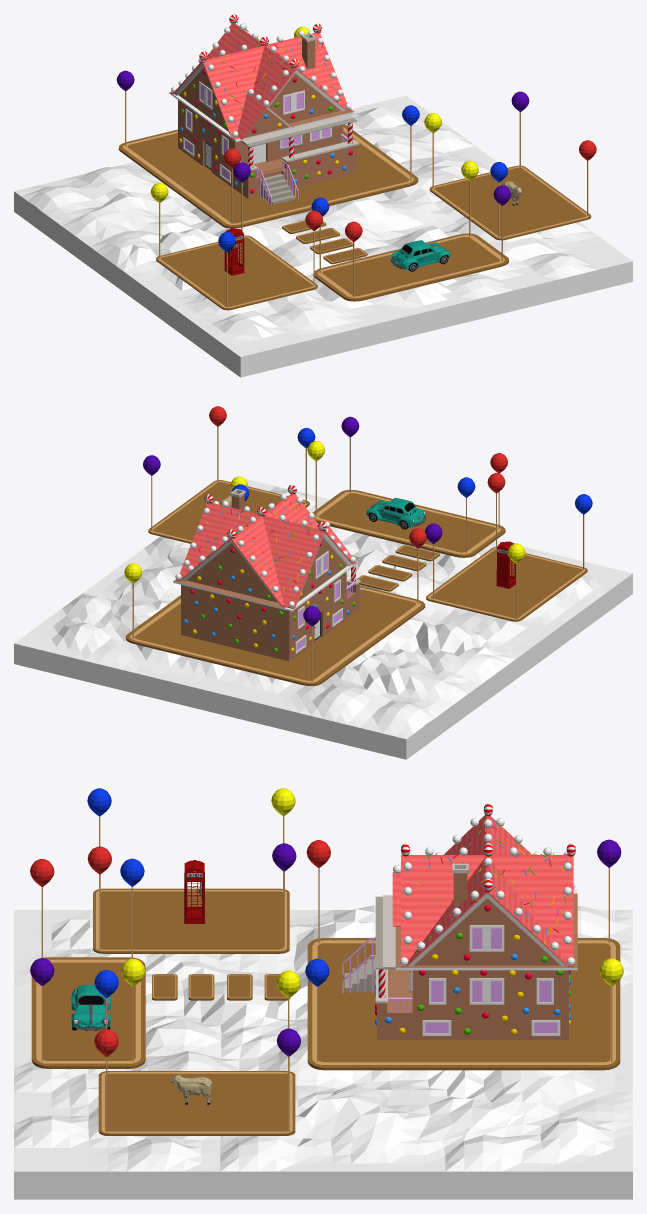
3 renders of one model, top to bottom at view 1: azimuth 30°, elevation 25°; view 2: azimuth 150°, elevation 25°; view 3: azimuth 270°, elevation 25°, orthographic. The views are drawn at different scales.
Parts seen in each view (by area): view 1: Cube.013, Cube.1203, VEHICLES_VOLKSWAGEN, OBJRANDOM_PHONEBOOTH; view 2: Cube.013, Cube.1203, VEHICLES_VOLKSWAGEN, OBJRANDOM_PHONEBOOTH; view 3: Cube.013, Cube.1203, VEHICLES_VOLKSWAGEN, OBJRANDOM_PHONEBOOTH, ANIMAL_OVEJA.
Part boxes in pixels (box(x1,y1,x2,y2)): Cube.013: box(14, 26, 632, 377); Cube.1203: box(169, 14, 359, 205); VEHICLES_VOLKSWAGEN: box(390, 240, 450, 271); OBJRANDOM_PHONEBOOTH: box(224, 228, 244, 275); Cube.013: box(14, 406, 632, 759); Cube.1203: box(173, 485, 361, 661); VEHICLES_VOLKSWAGEN: box(366, 498, 426, 529); OBJRANDOM_PHONEBOOTH: box(496, 541, 515, 588); Cube.013: box(14, 788, 632, 1199); Cube.1203: box(342, 803, 577, 1039); VEHICLES_VOLKSWAGEN: box(71, 984, 110, 1031); OBJRANDOM_PHONEBOOTH: box(184, 860, 204, 923); ANIMAL_OVEJA: box(170, 1075, 212, 1104).
Size of the model in its own units: 4000 by 1712 by 4000.
48 materials, 3 textured.
